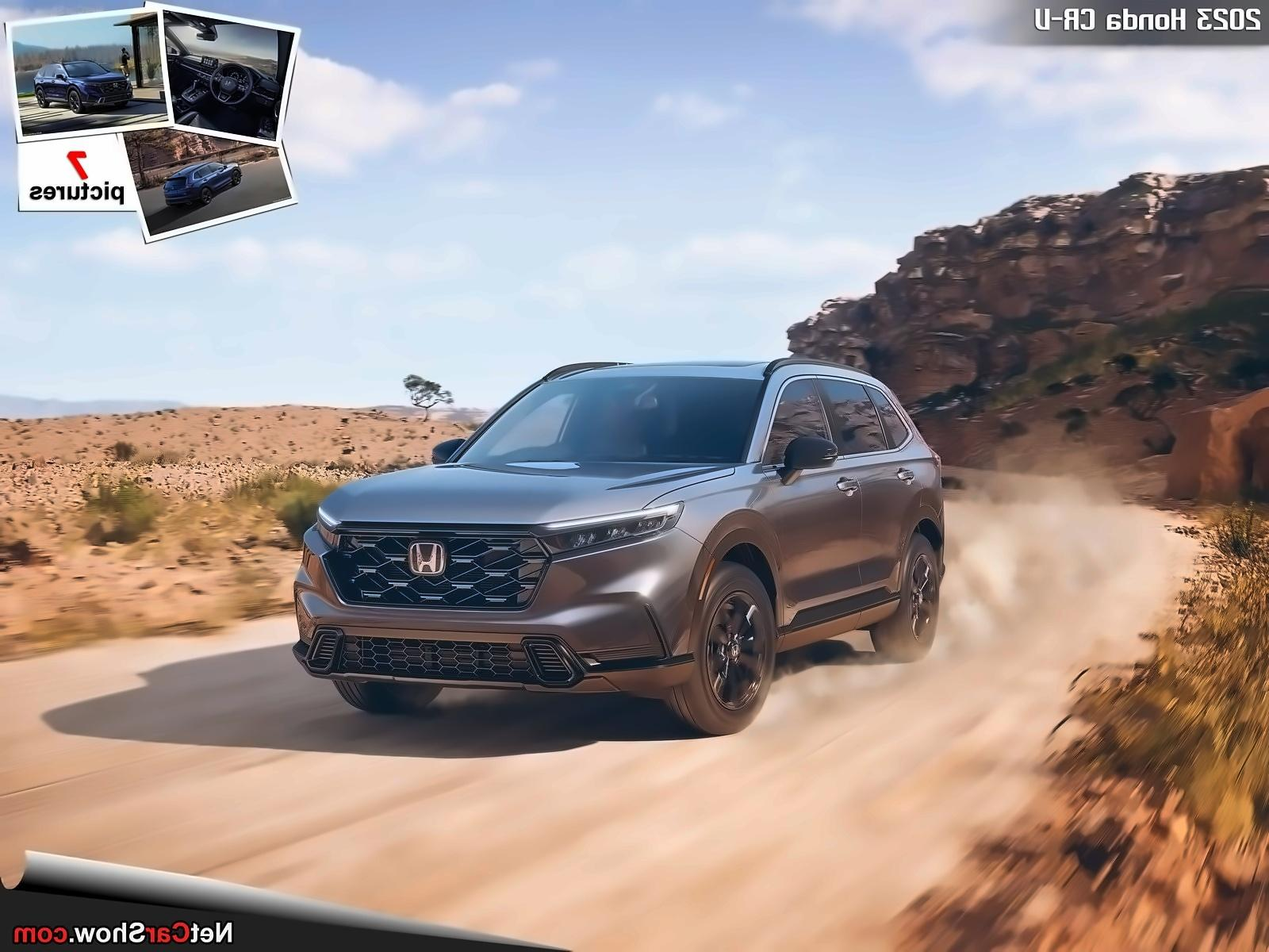Car hood: (314, 457, 742, 528)
Fender - -F-L-: (642, 457, 785, 651)
Fender - -R-L-: (915, 448, 950, 532)
Front bumper: (286, 536, 718, 701)
Headlight - -L-: (524, 494, 692, 567)
Headlight - -R-: (299, 503, 346, 554)
Passenger-s door - -F-L-: (768, 370, 867, 633)
Passenger-s door - -R-L-: (822, 371, 926, 631)
Side bumper - -L-: (765, 588, 912, 653)
Side mirror - -L-: (771, 425, 842, 490)
Side mirror - -R-: (425, 431, 473, 473)
